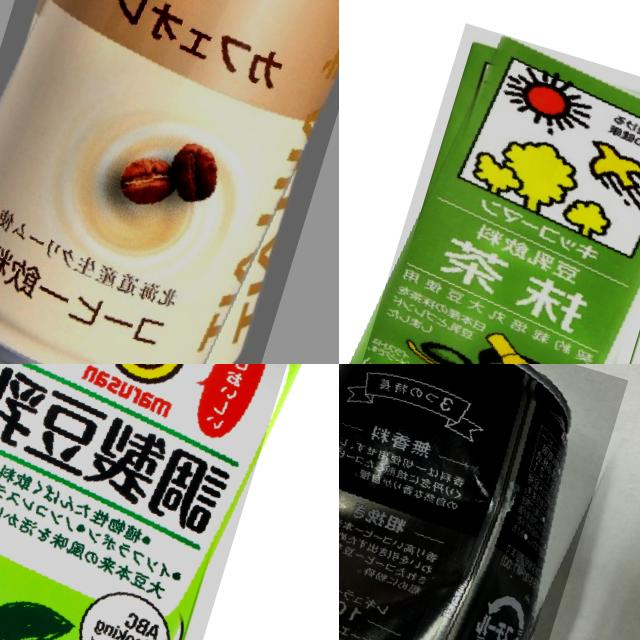Aluminium Foil: (349, 23, 640, 364), (0, 364, 310, 640)
Can: (0, 0, 339, 364), (339, 364, 627, 640)
